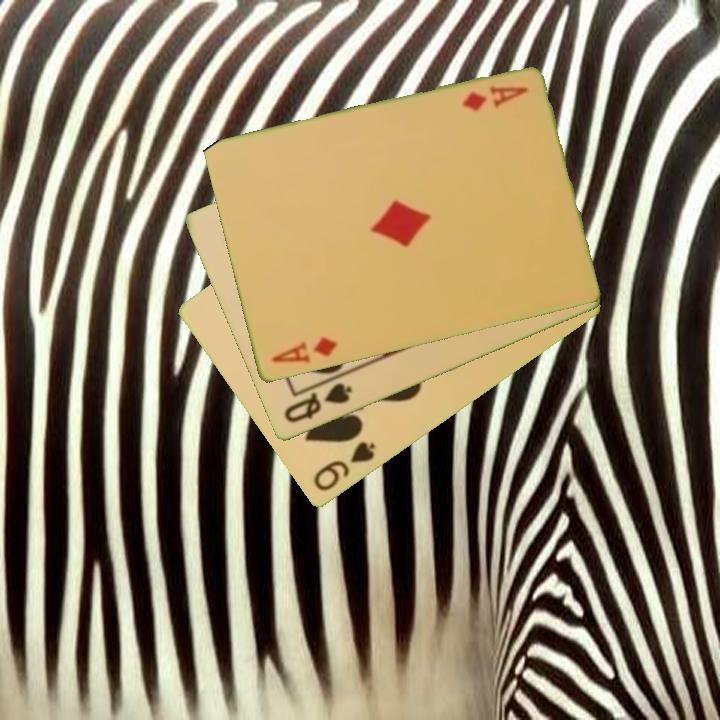9s: (309, 438, 379, 495)
Ad: (267, 333, 340, 367), (458, 83, 530, 115)
Qs: (280, 379, 355, 426)
